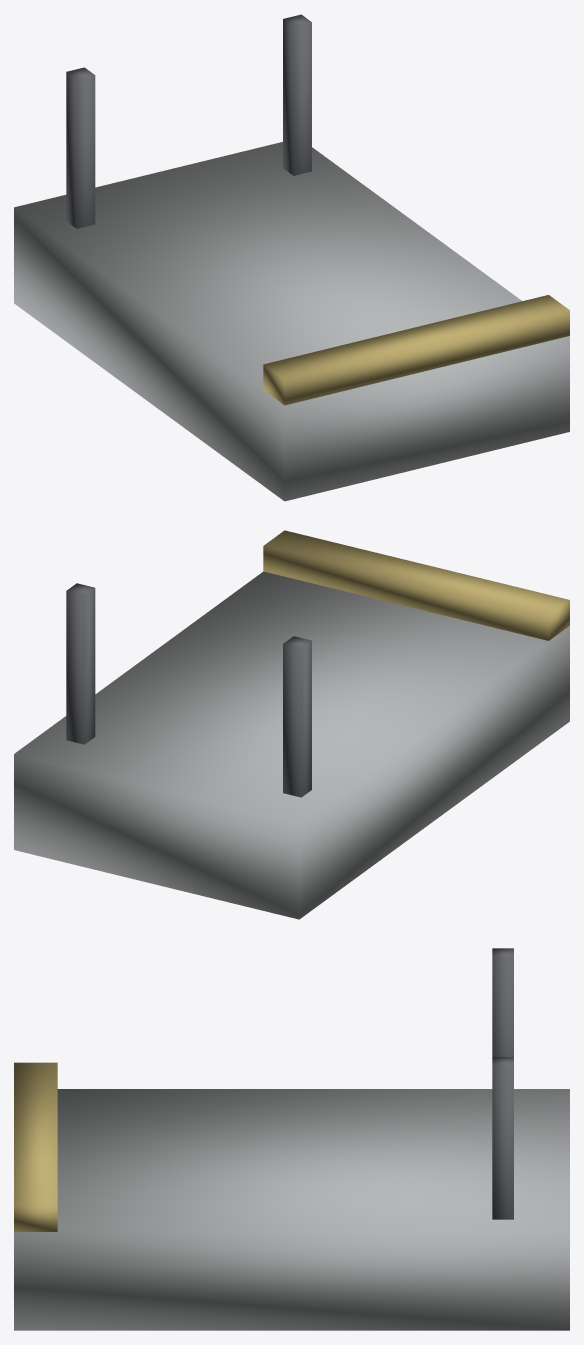
File: loading_dock_13.glb
The picture shows the model from 3 angles, top to bottom: view 1: azimuth 30°, elevation 25°; view 2: azimuth 150°, elevation 25°; view 3: azimuth 270°, elevation 25°; orthographic projection. The views are drawn at different scales.
Parts seen in each view (by area): view 1: world; view 2: world; view 3: world.
Boxes of the visible parts, bbox=[...] form: world: bbox=[14, 14, 569, 501]; world: bbox=[14, 530, 569, 919]; world: bbox=[14, 948, 569, 1330].
Size of the model in its own units: 1.4 by 1.15 by 2.3.
